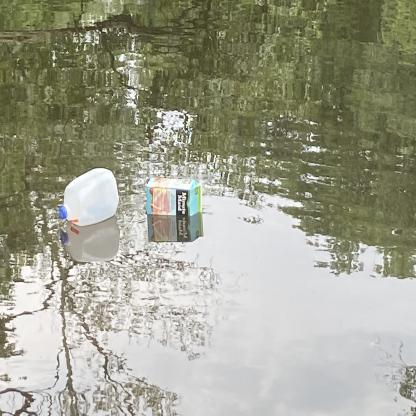trash: (55, 162, 122, 230), (140, 176, 206, 222)
